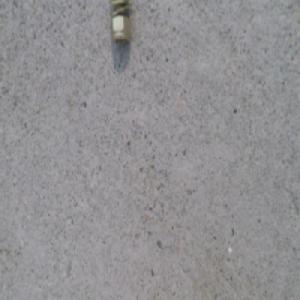BoltNutSet: (110, 0, 129, 48)
